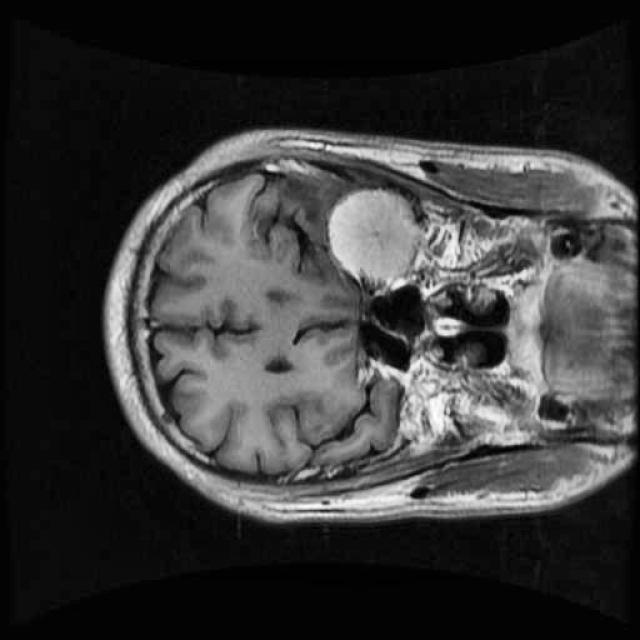Tumor: (311, 171, 444, 305)
